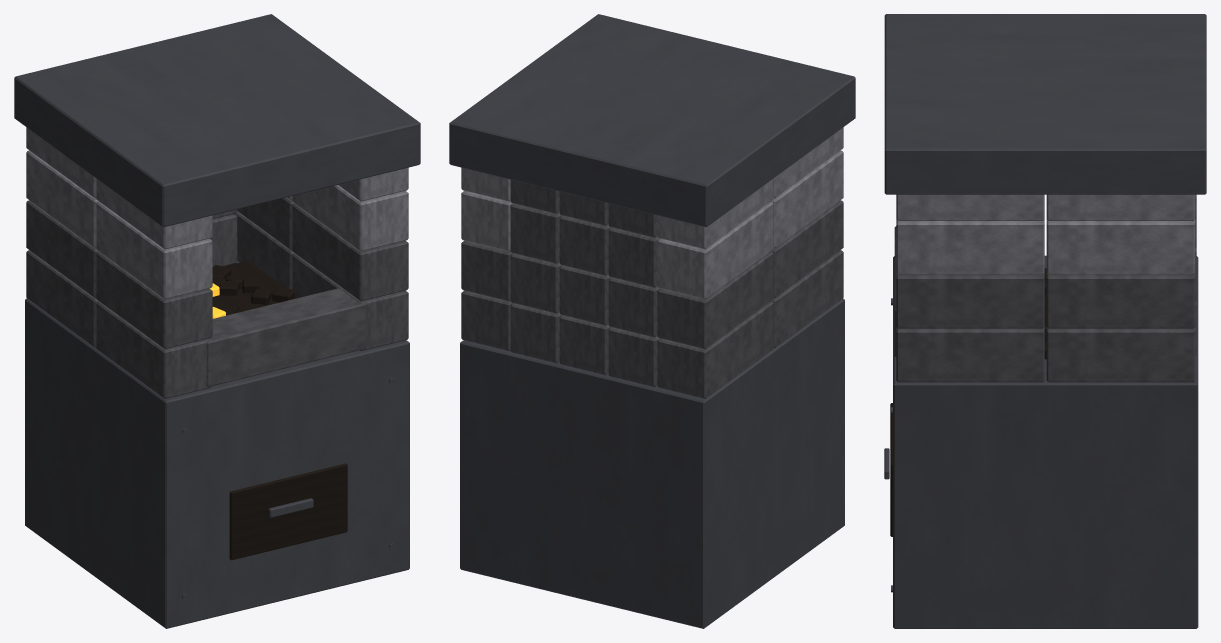
The model's file is forge_basic.glb.
3 views of the same model, side by side, from view 1: azimuth 30°, elevation 25°; view 2: azimuth 150°, elevation 25°; view 3: azimuth 270°, elevation 25° (orthographic). The views are drawn at different scales.
Parts seen in each view (by area): view 1: forge_basic; view 2: forge_basic; view 3: forge_basic.
Part boxes in pixels (left/top/right/bottom): forge_basic: left=14, top=14, right=420, bottom=628; forge_basic: left=449, top=14, right=855, bottom=628; forge_basic: left=884, top=14, right=1206, bottom=628.
Size of the model in its own units: 0.95 by 1.58 by 0.951.
5 materials, 4 textured.
